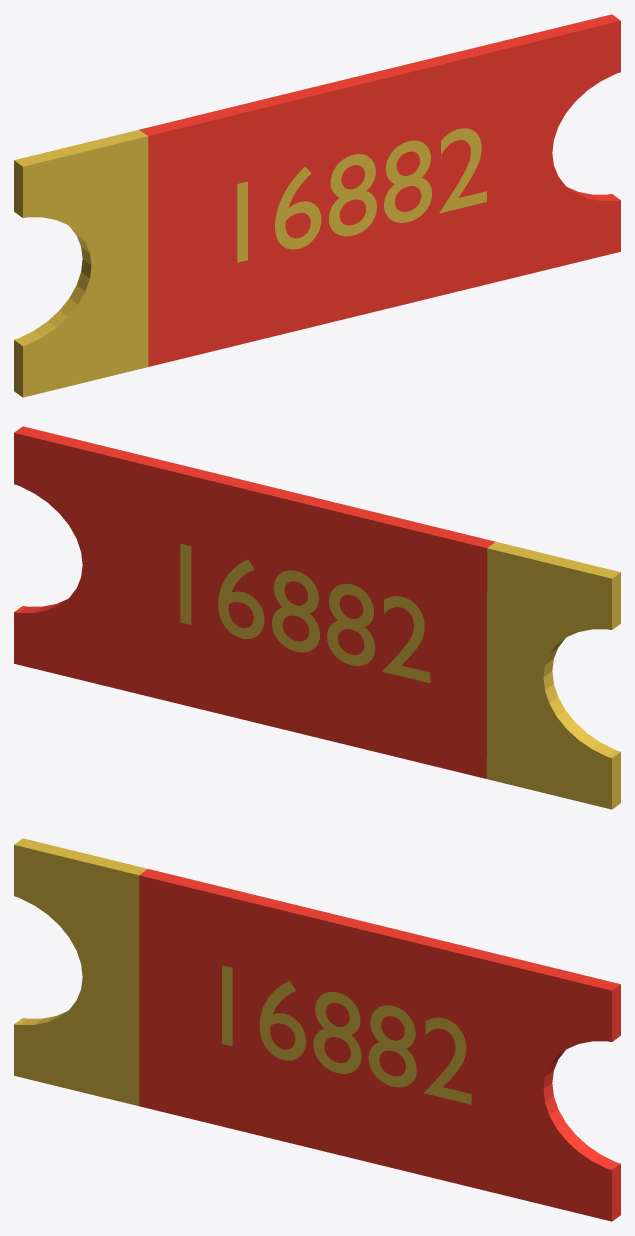
File: foodcoupon9.glb
The picture shows the model from 3 angles, top to bottom: view 1: azimuth 30°, elevation 25°; view 2: azimuth 150°, elevation 25°; view 3: azimuth 330°, elevation 25°; orthographic projection.
Parts seen in each view (by area): view 1: Cube.008; view 2: Cube.008; view 3: Cube.008.
Boxes of the visible parts, left/top/right/bottom form: Cube.008: left=14, top=14, right=620, bottom=397; Cube.008: left=14, top=426, right=620, bottom=809; Cube.008: left=14, top=838, right=620, bottom=1221.
Bounding box in the file's own units: 5.42 × 2 × 0.2516.
